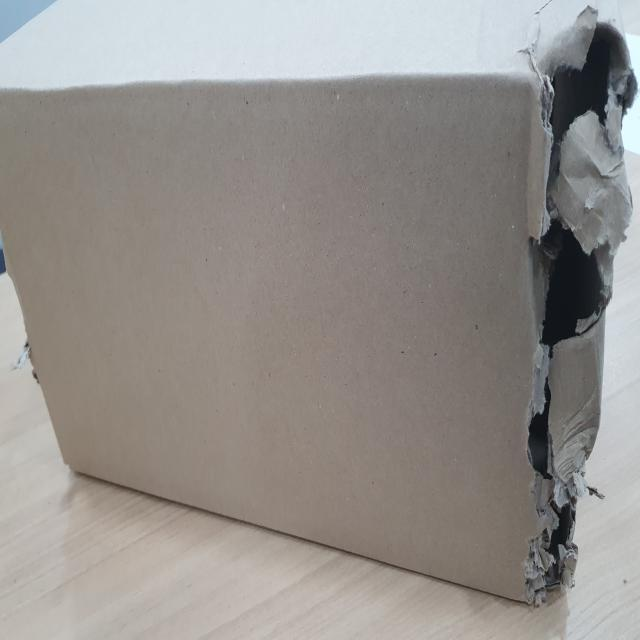hole: (515, 8, 629, 598)
